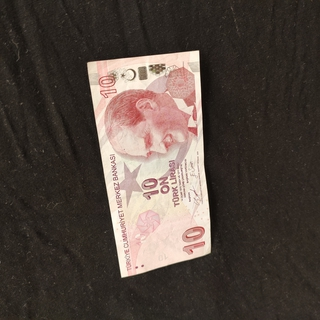10TLFront: (85, 48, 213, 279)
